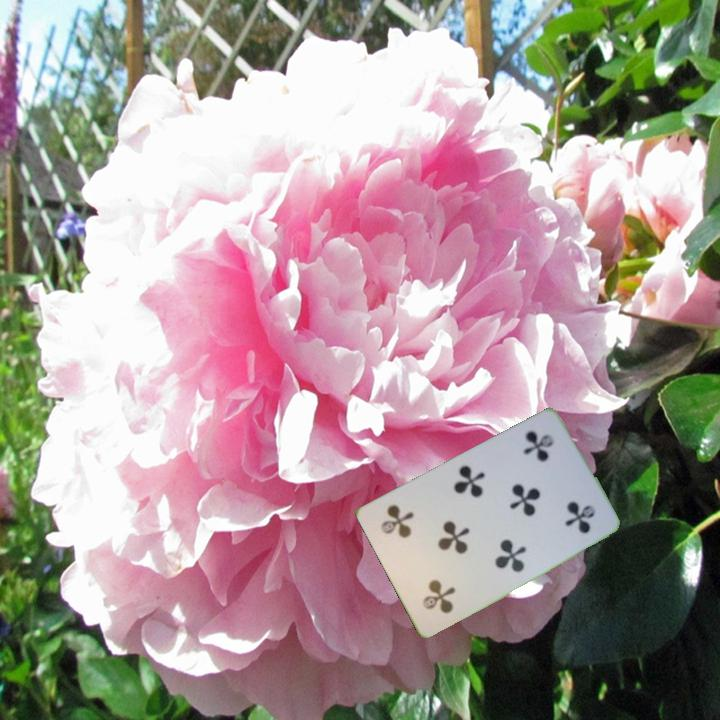c_8.png: (503, 416, 583, 501), (396, 542, 476, 627)
